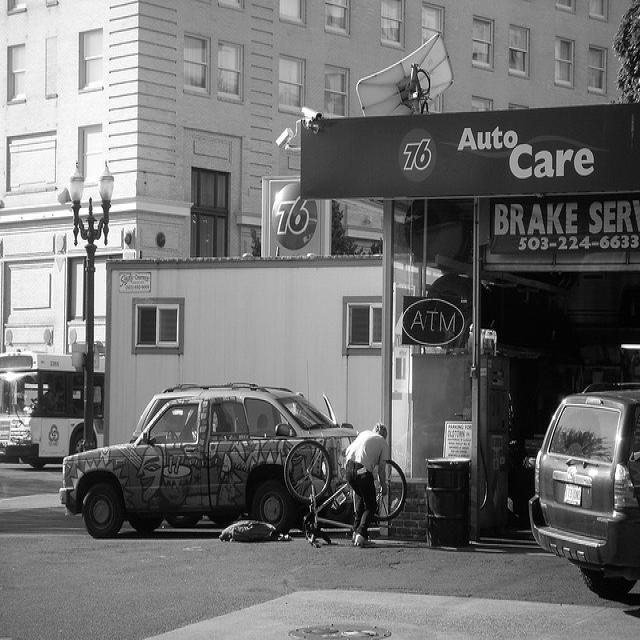Vehicle: (57, 393, 357, 541), (527, 388, 640, 596), (0, 350, 109, 467)
